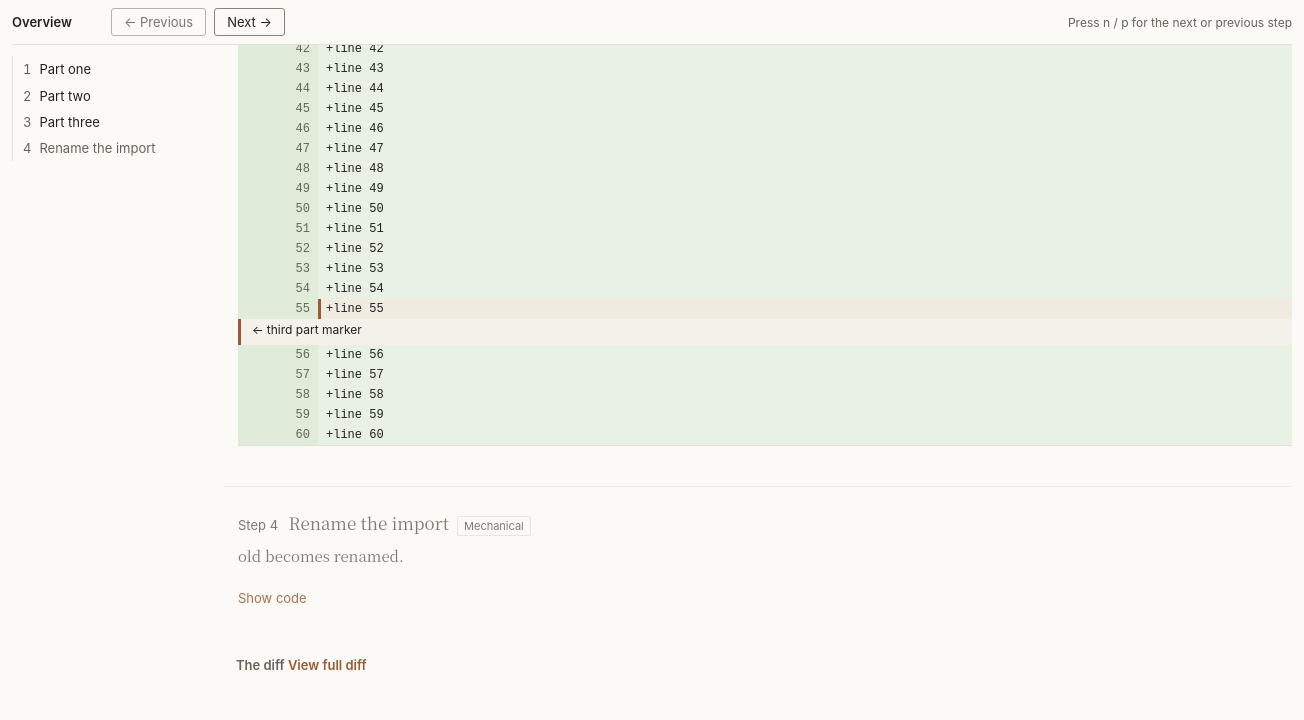
WalkthroughView: full diff (DIG-96) › is collapsed by default, behind one "View full diff" toggle
(page scrolled)
Check: the number of elements with class "full-diff" is 1, box [236,652,367,680]
Click the button with class "full-diff-toggle" at {"x": 327, "y": 666}, box [288,652,367,680]
(page scrolled)
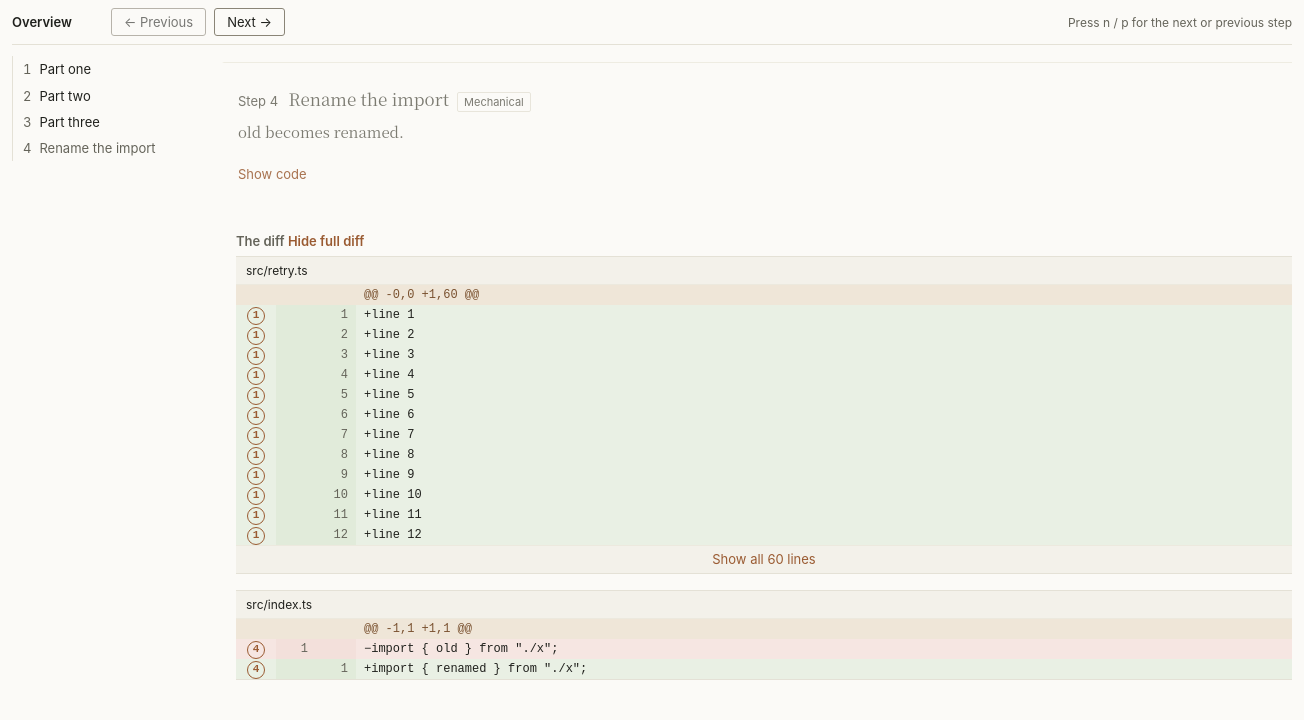
Check: the element with class "full-diff-body" is shown, box [236,256,1292,680]
